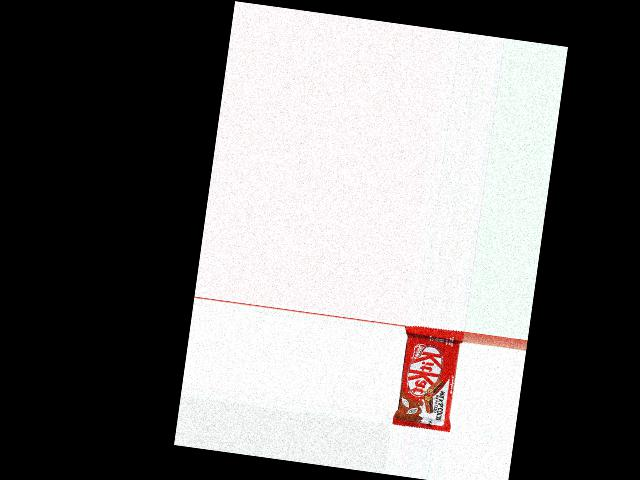chocolate: (391, 324, 464, 433)
